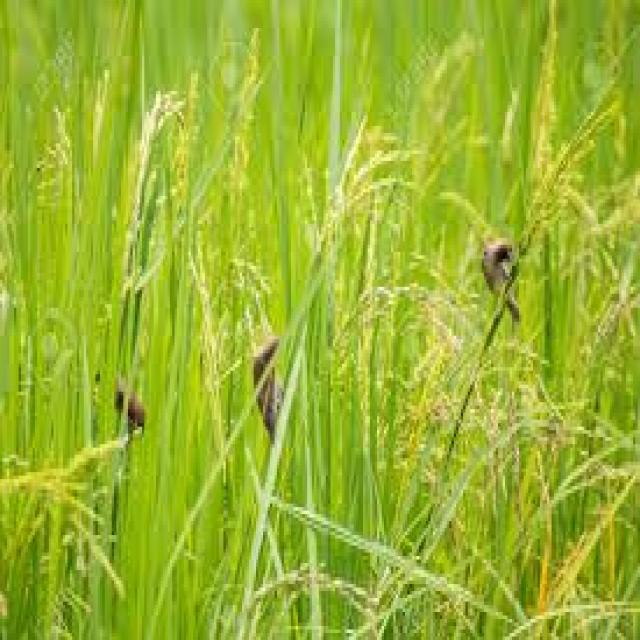bird: (480, 235, 527, 320)
